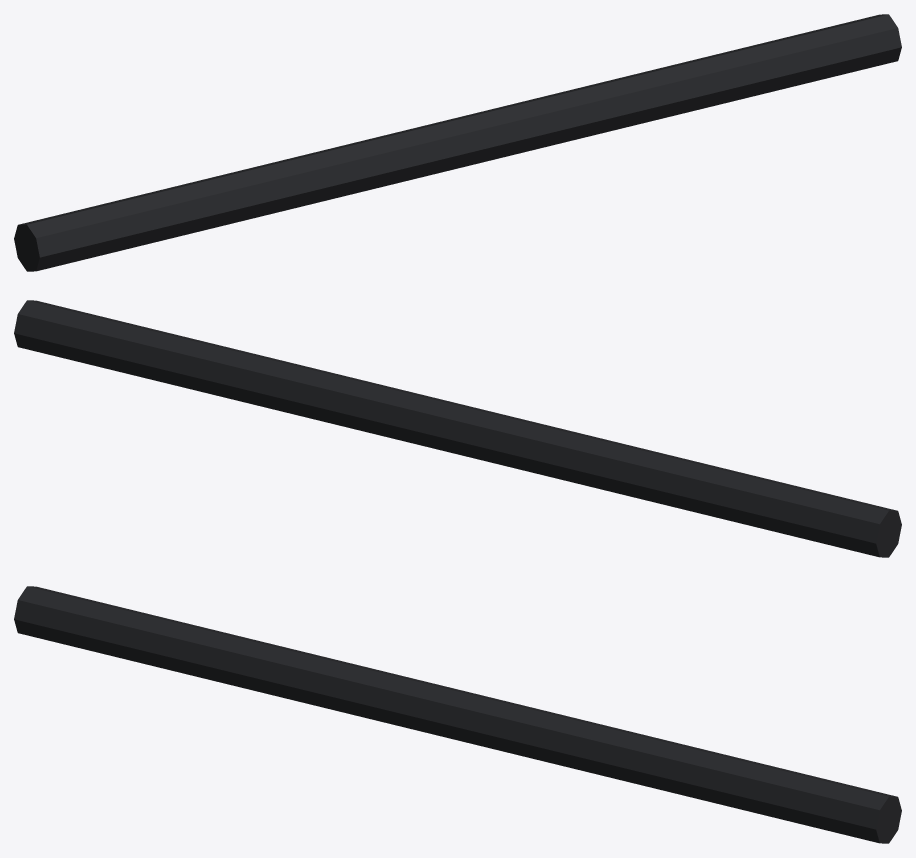
File: MinidoracatTesla_CableFloor.fbx
3 views of the same model, one above another, from view 1: azimuth 30°, elevation 25°; view 2: azimuth 150°, elevation 25°; view 3: azimuth 330°, elevation 25° (orthographic).
Parts seen in each view (by area): view 1: MinidoracatTesla_CableFloor; view 2: MinidoracatTesla_CableFloor; view 3: MinidoracatTesla_CableFloor.
Part boxes in pixels (left/top/right/bottom): MinidoracatTesla_CableFloor: left=14, top=14, right=901, bottom=271; MinidoracatTesla_CableFloor: left=14, top=300, right=901, bottom=557; MinidoracatTesla_CableFloor: left=14, top=586, right=901, bottom=843.
Bounding box in the file's own units: 1 × 0.052 × 0.052.
